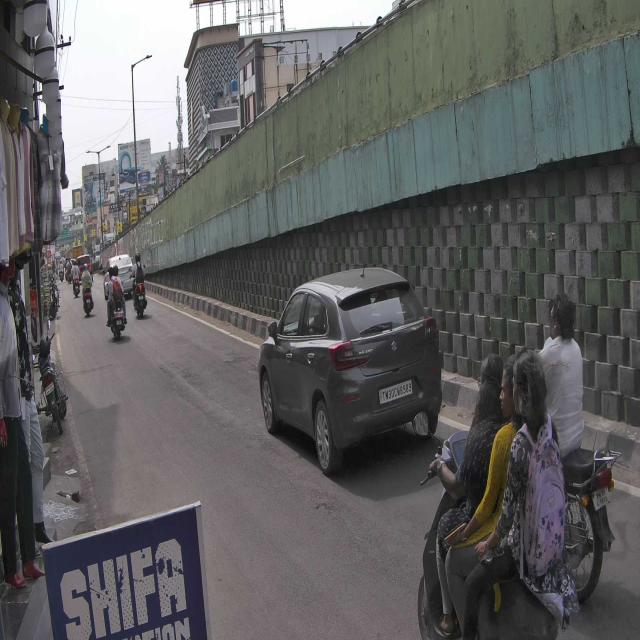triple_rider: (411, 341, 574, 640)
